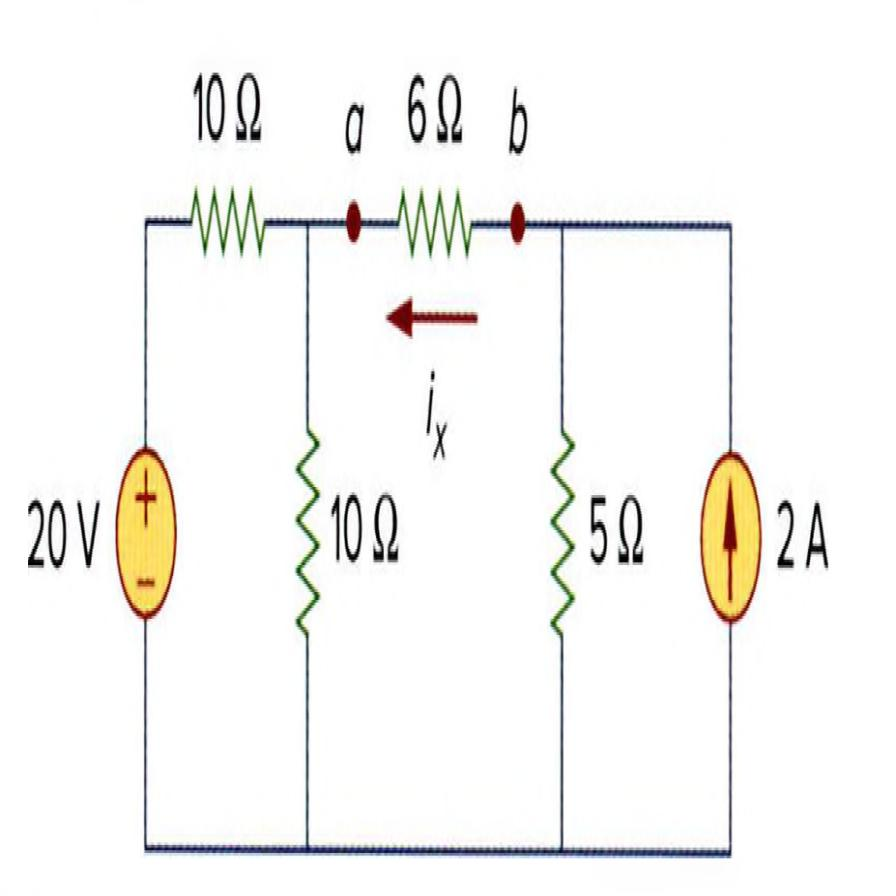I1: (688, 417, 770, 640)
R1: (182, 148, 275, 304), (390, 156, 482, 277)
R2: (540, 400, 586, 669), (284, 408, 329, 668)
V1: (108, 413, 182, 648)
